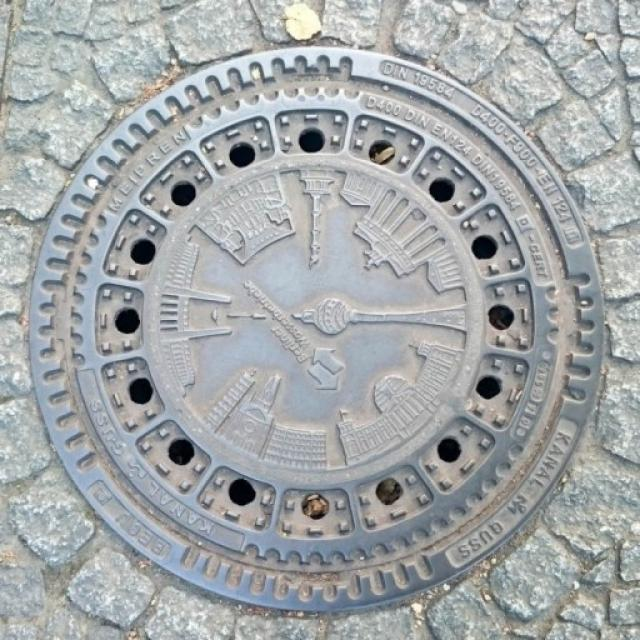manhole: (30, 48, 604, 611)
